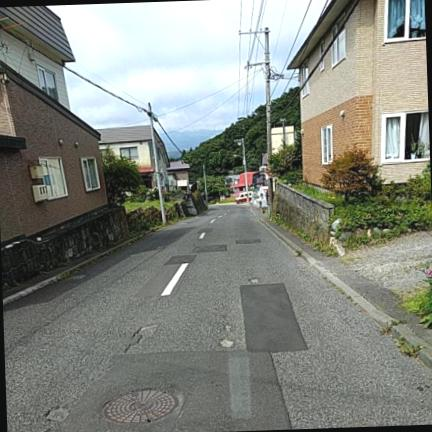Road: (3, 205, 431, 431)
